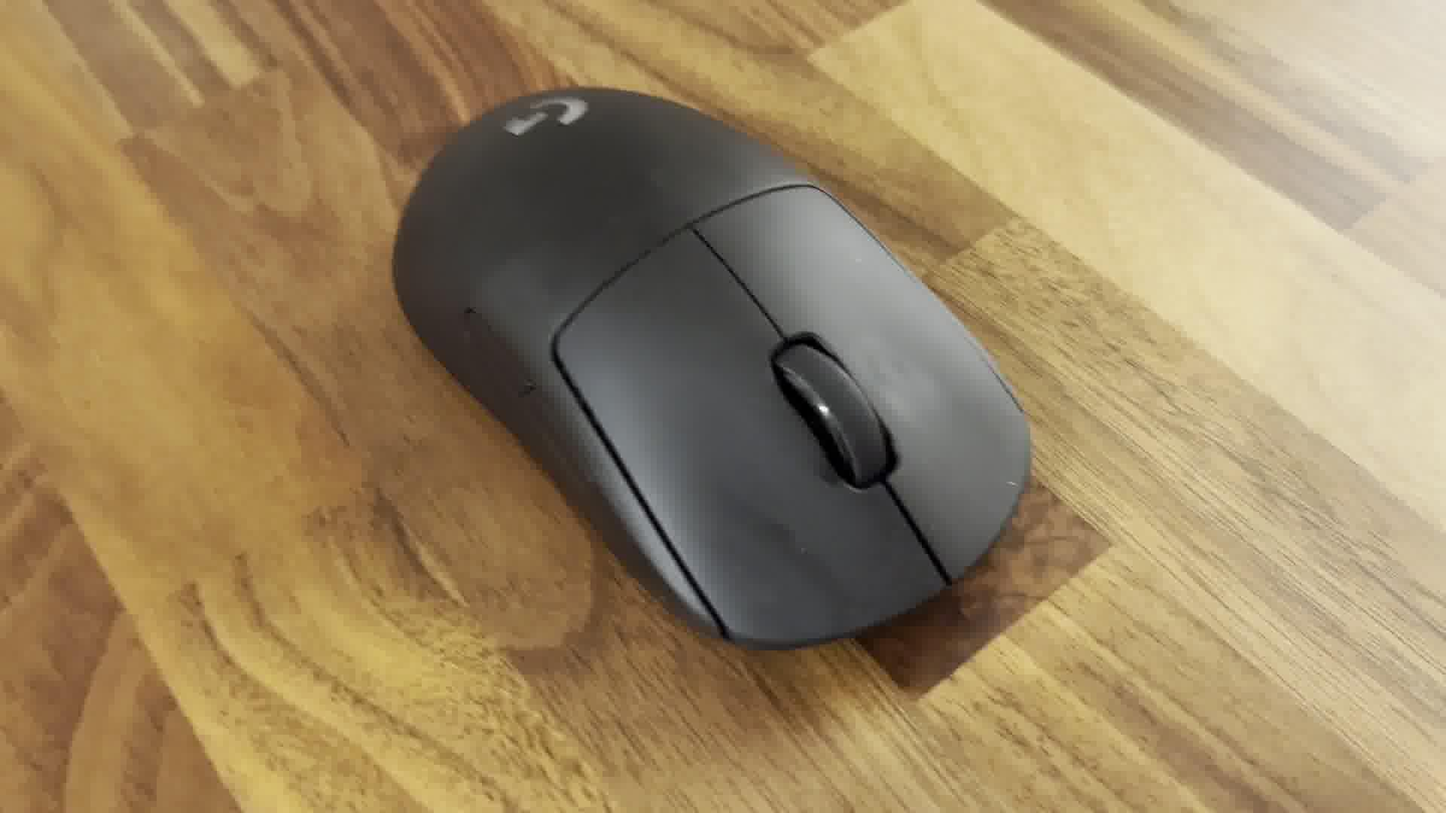mouse: (383, 83, 1037, 654)
